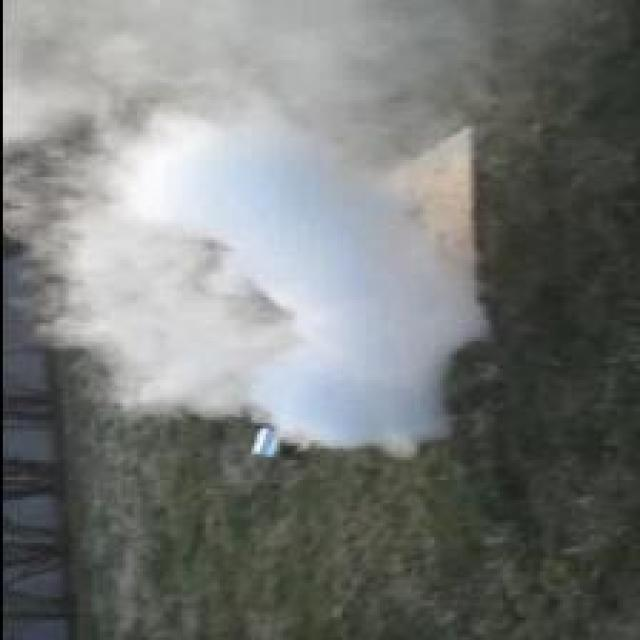Smoke: (2, 0, 491, 454)
